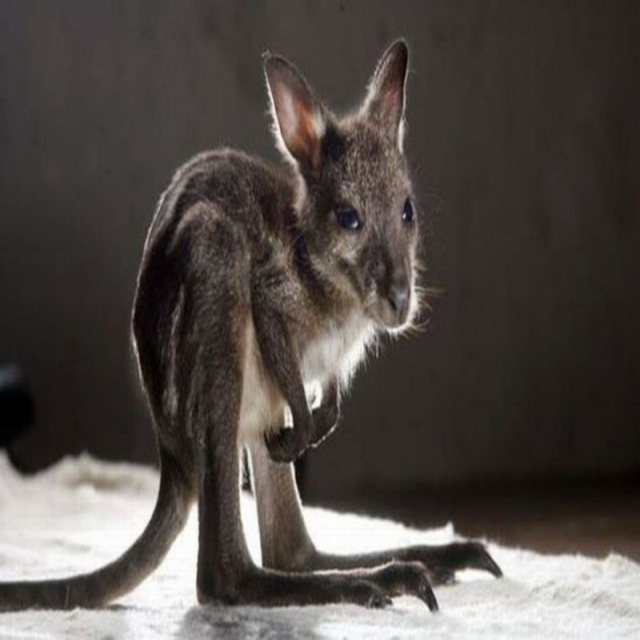Kangaroo: (0, 41, 504, 619)
